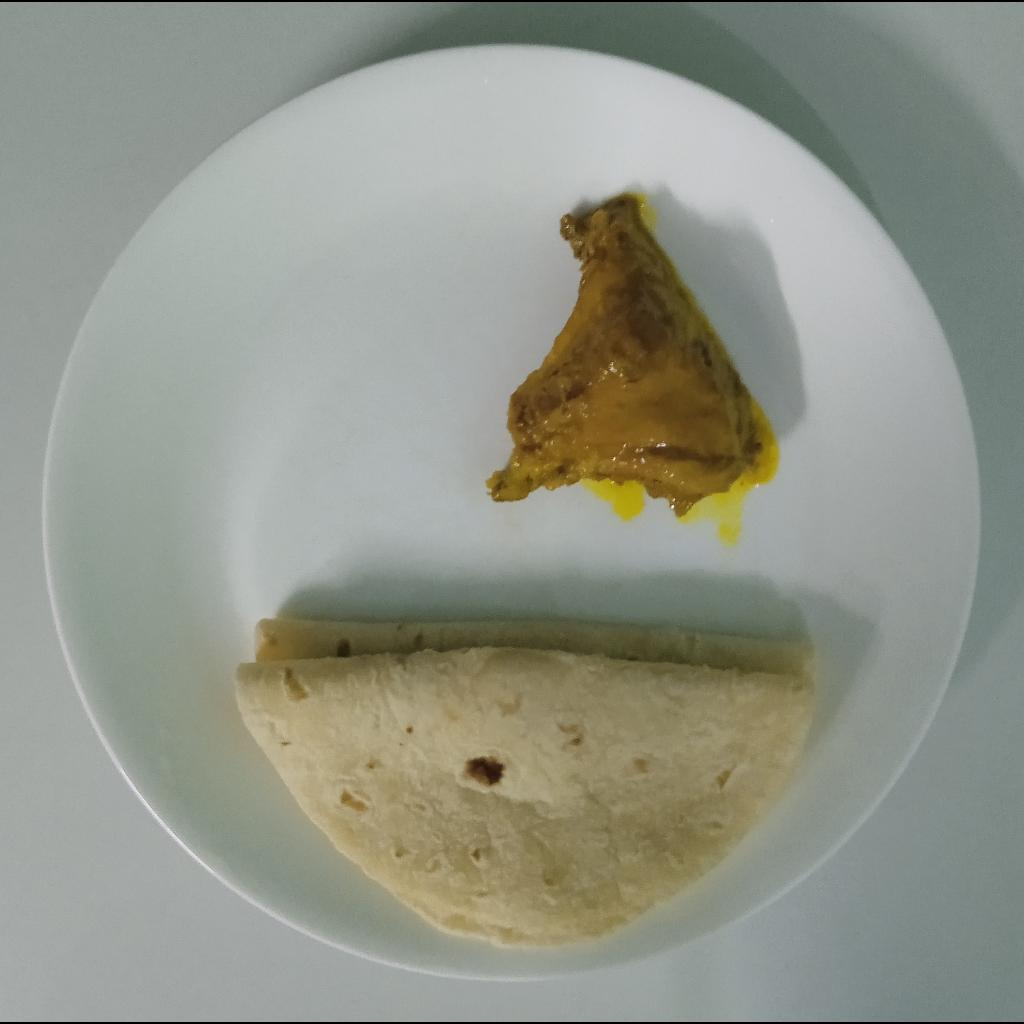chicken: (485, 194, 763, 518)
ruti: (236, 617, 821, 949)
